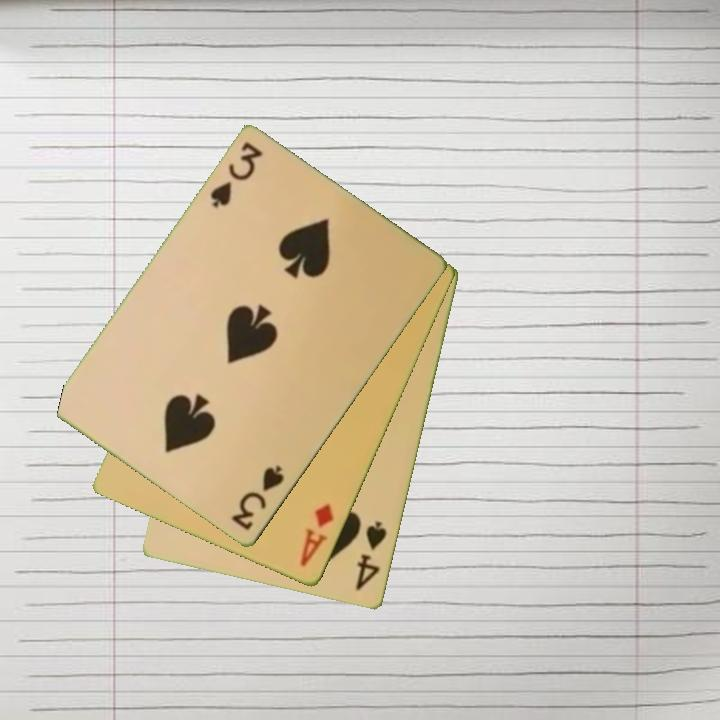3s: (206, 139, 266, 212), (228, 462, 288, 534)
4s: (352, 518, 390, 594)
Ad: (297, 501, 337, 571)
